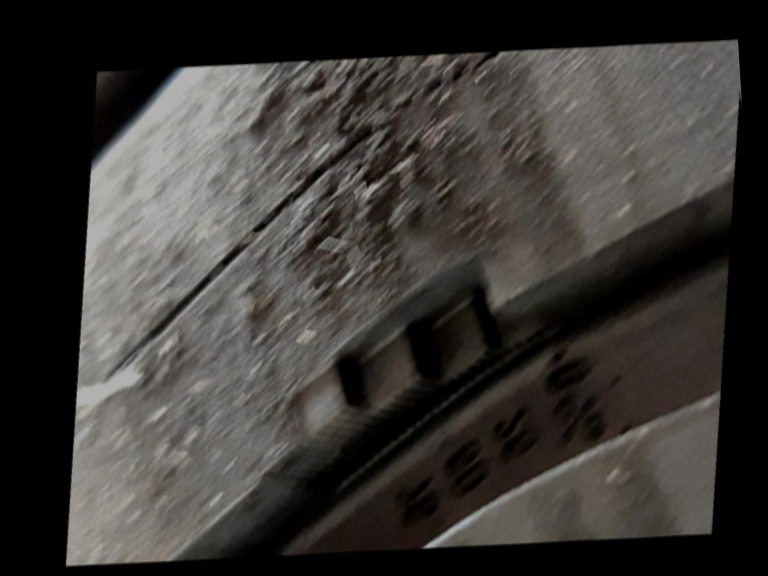temoin:75: (269, 230, 592, 485)
